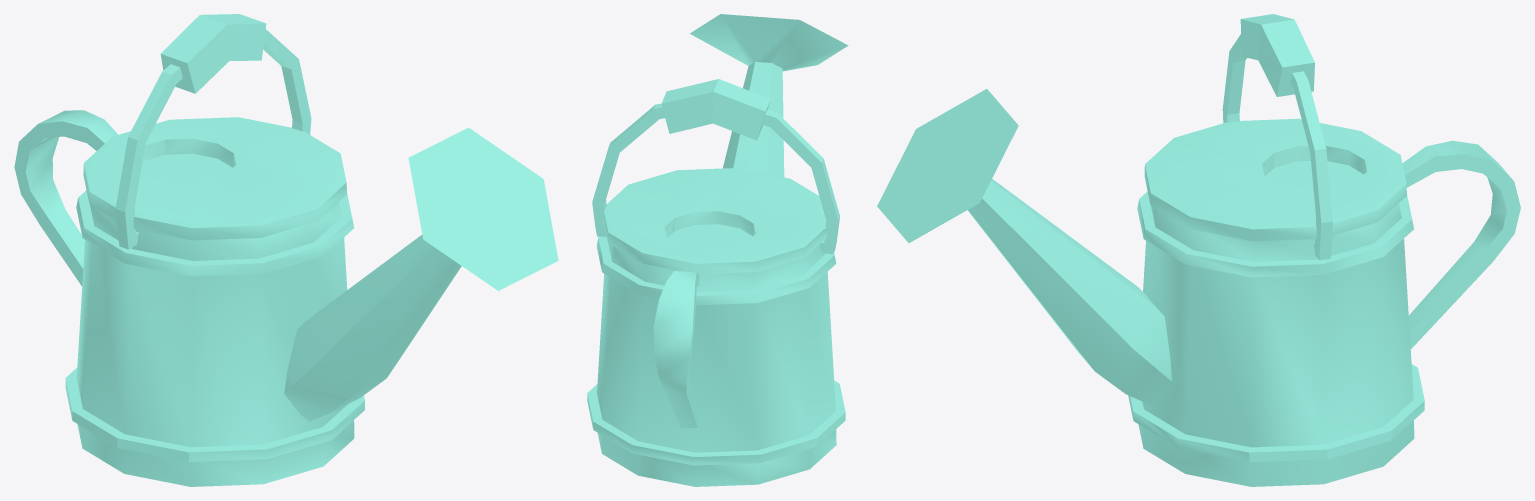
The model's file is wateringCan-positioned-glow.glb.
The picture shows the model from 3 angles, left to right: view 1: azimuth 30°, elevation 25°; view 2: azimuth 150°, elevation 25°; view 3: azimuth 270°, elevation 25°; orthographic projection. The views are drawn at different scales.
Parts seen in each view (by area): view 1: wateringCan-toon; view 2: wateringCan-toon; view 3: wateringCan-toon.
Part boxes in pixels (x1,y1,x2,y2): wateringCan-toon: [14, 14, 558, 486]; wateringCan-toon: [587, 14, 848, 486]; wateringCan-toon: [877, 14, 1520, 486].
Bounding box in the file's own units: 0.447 × 0.5627 × 0.8088.
Materials: 1 (1 with a texture image).
